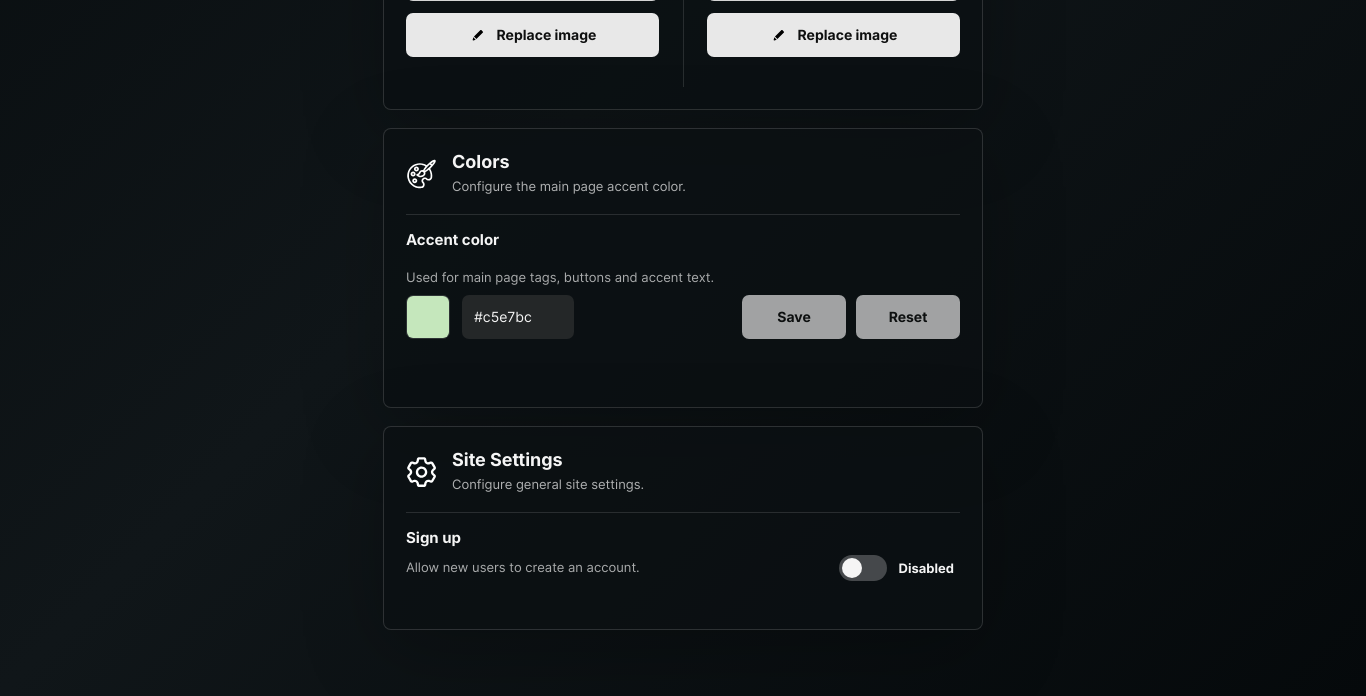
Scenario: Profile settings › resets unsaved accent color changes
(page scrolled)
Replace the text in the field named "Accent color hex value" with "#aabbcc" at x=518, y=317, box [462,295,574,339]
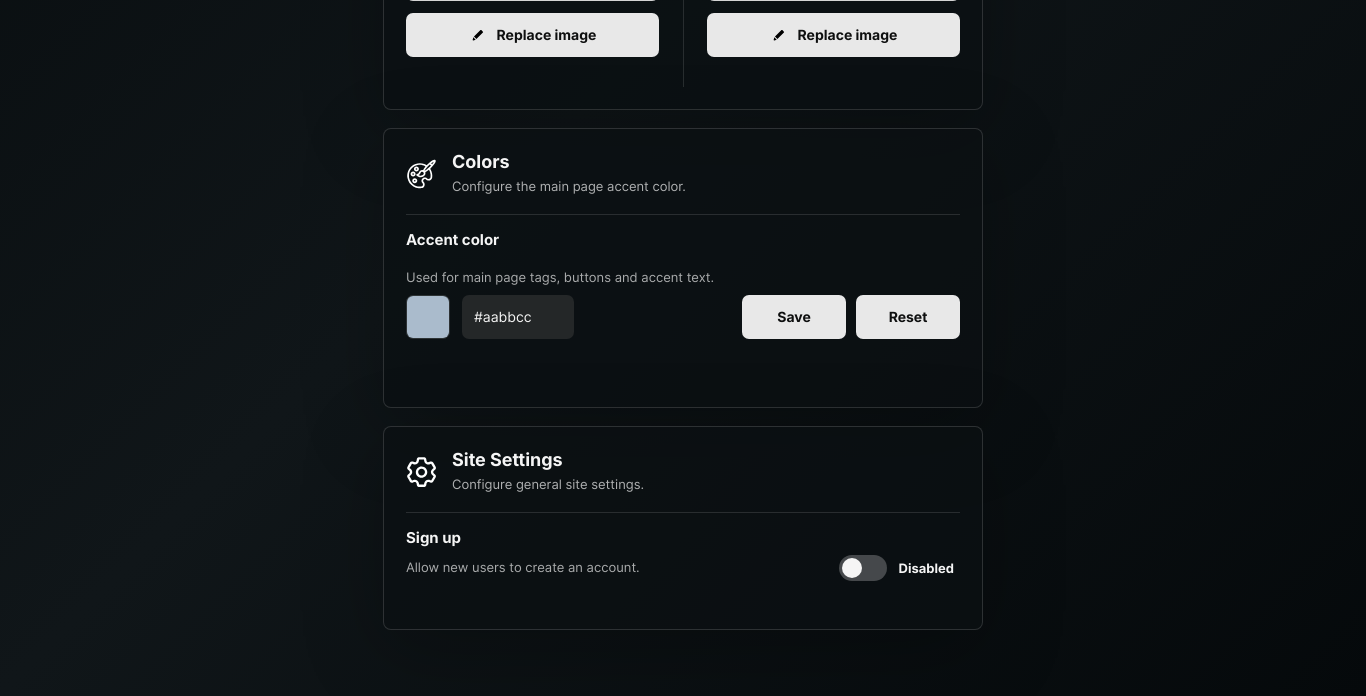
expect the button "Reset" is enabled: met
Click the button "Reset" at x=908, y=317, box [856,295,960,339]
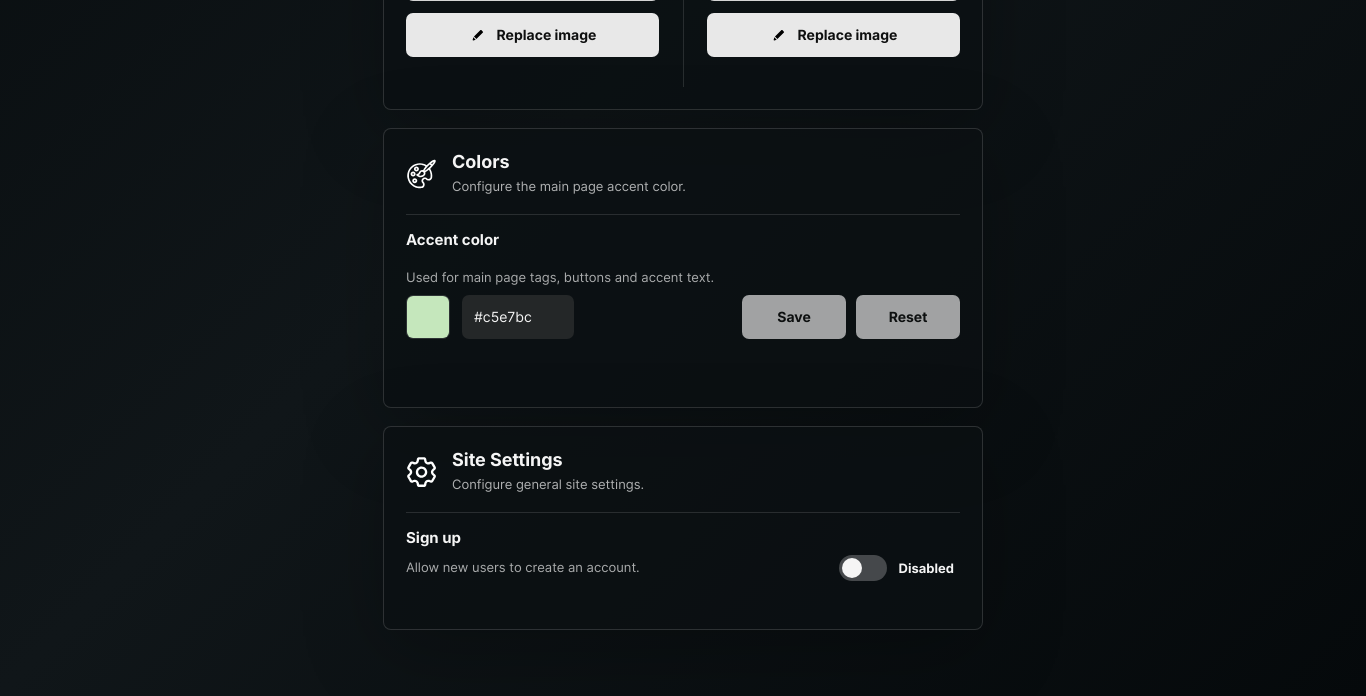
expect the field named "Accent color hex value" holds "#c5e7bc": met, box [462,295,574,339]
expect the button "Reset" is disabled: met, box [856,295,960,339]
